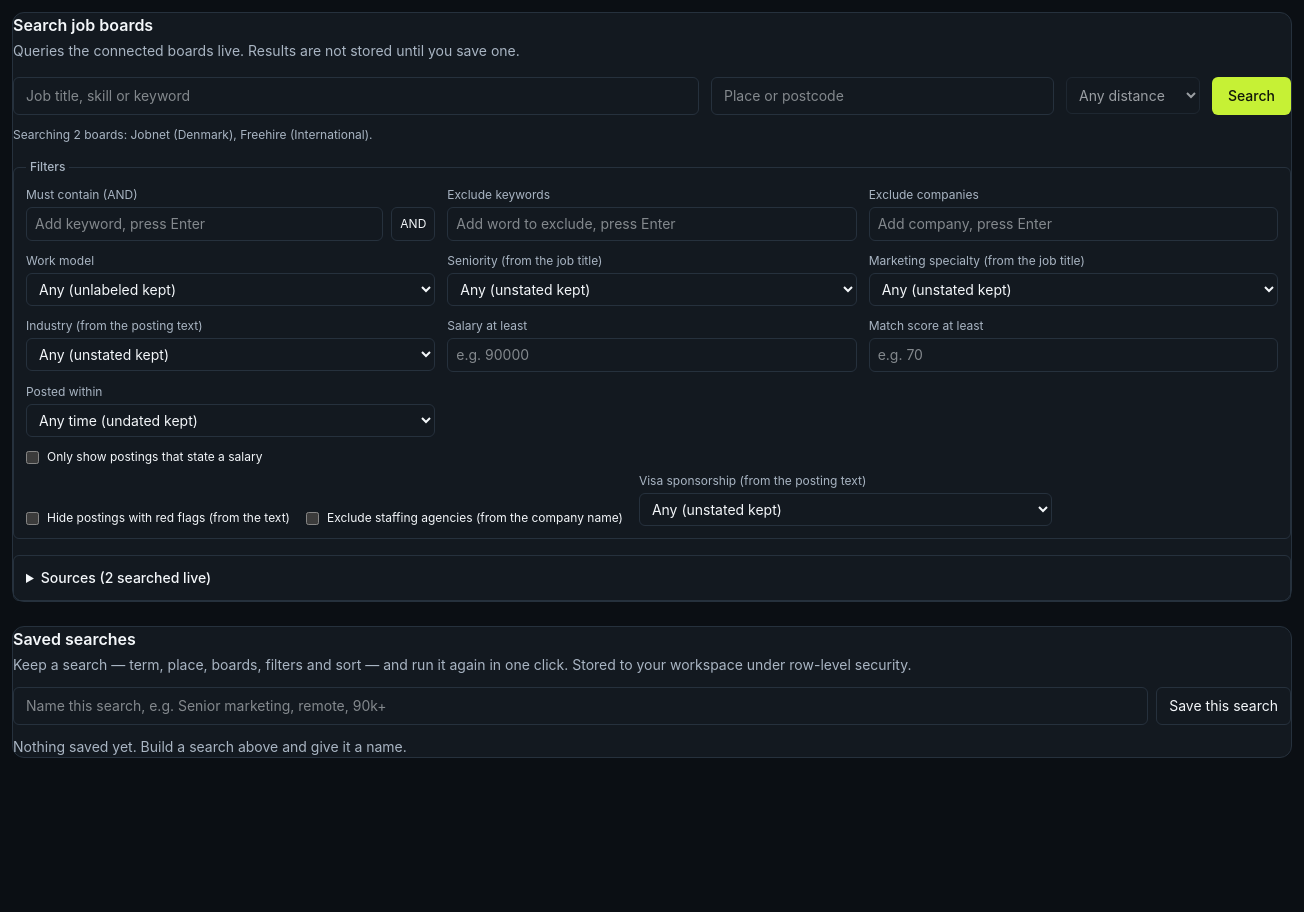
Test: the search panel › reads an empty answer as empty rather than as nothing at all
Expected: the text "Searching 2 boards:" is shown, [13,127,372,142]
Type "engineer" into the search field with placeholder "Job title, skill or keyword" at [356, 96], box [13,77,699,115]
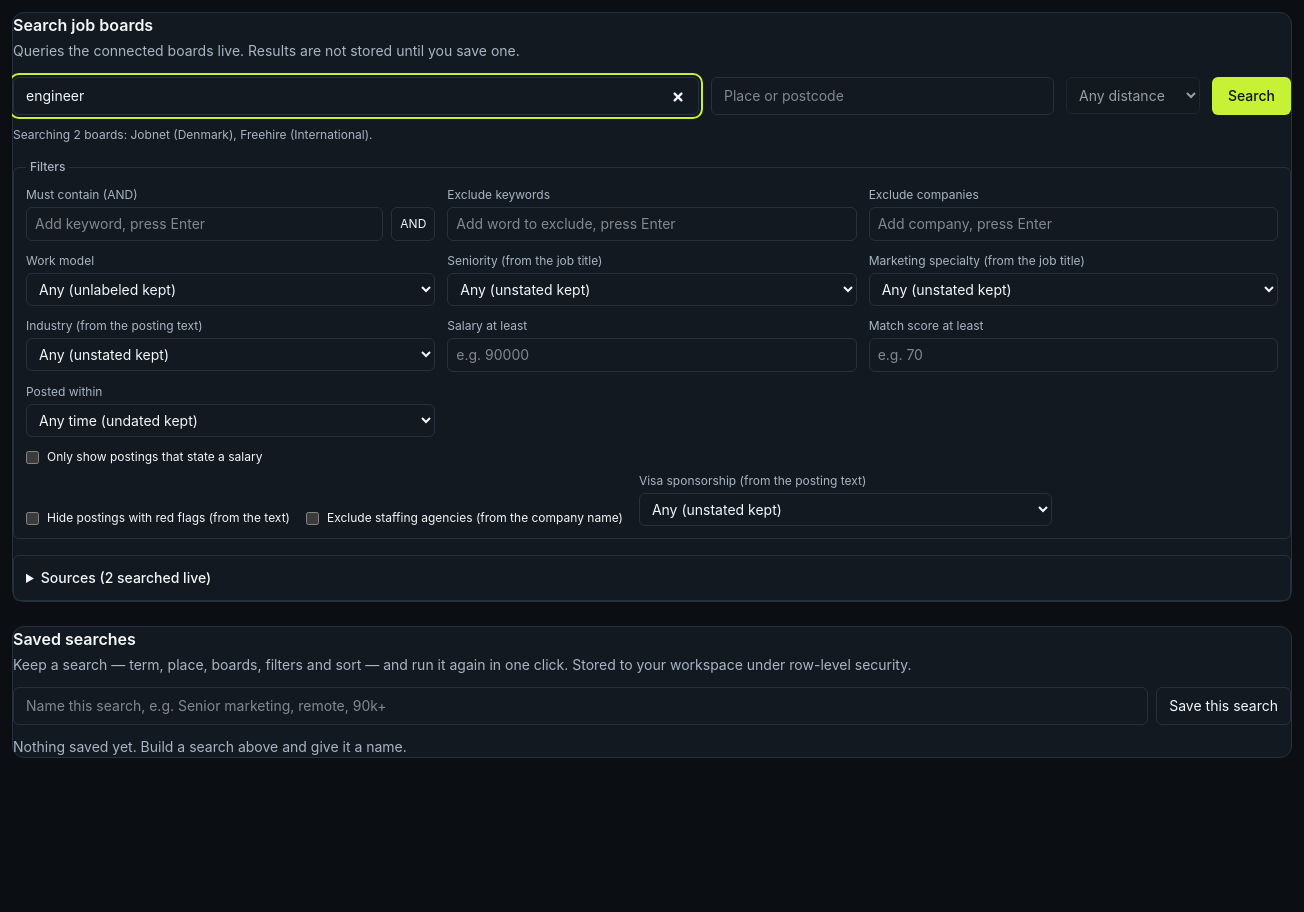
Click the button "Search" at [1252, 96], box [1212,77,1291,115]
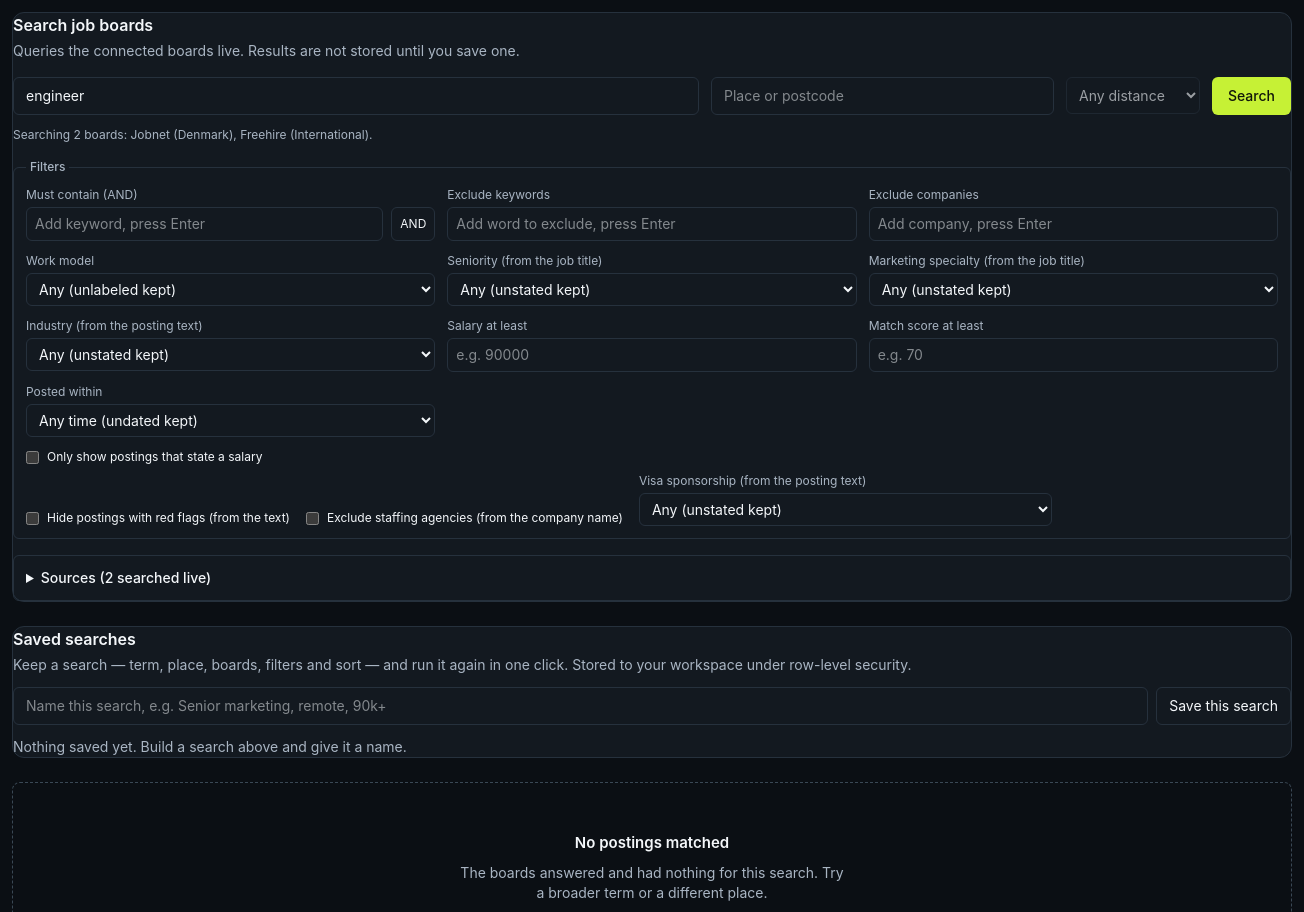
Expected: the heading "No postings matched" is shown, [575,833,729,852]
